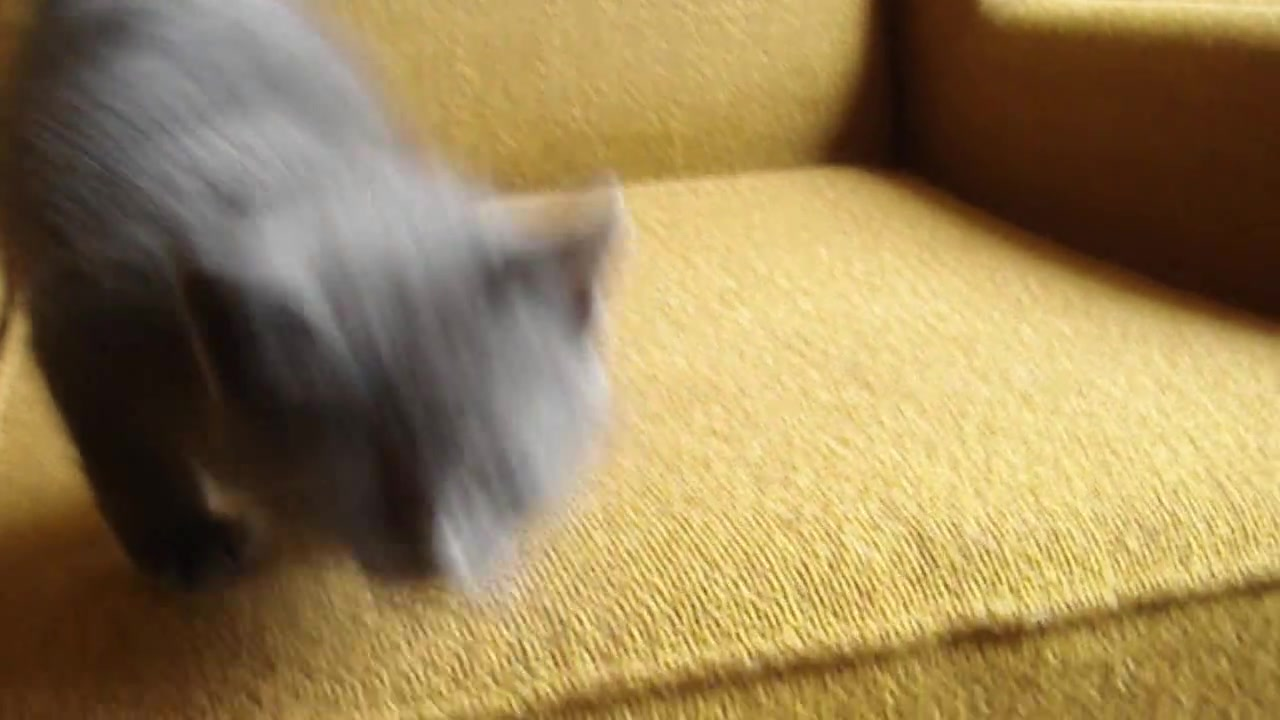cat: (1, 4, 634, 602)
